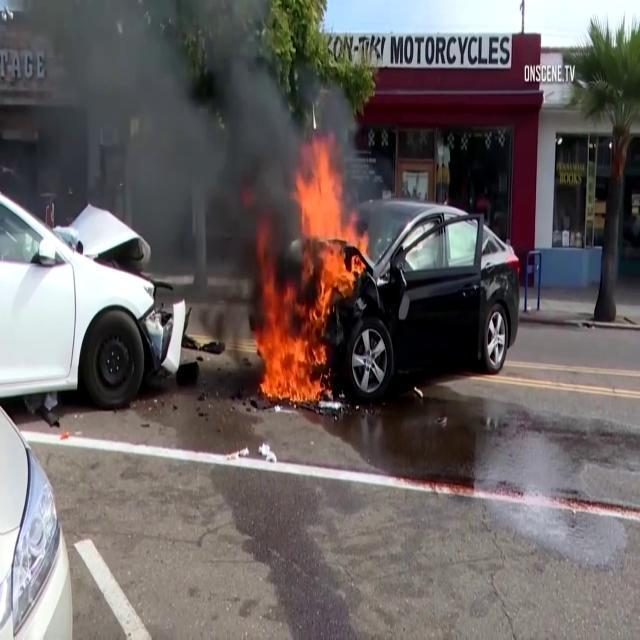Fire: (296, 154, 372, 316), (252, 288, 332, 416)
Smoke: (12, 6, 304, 300)
